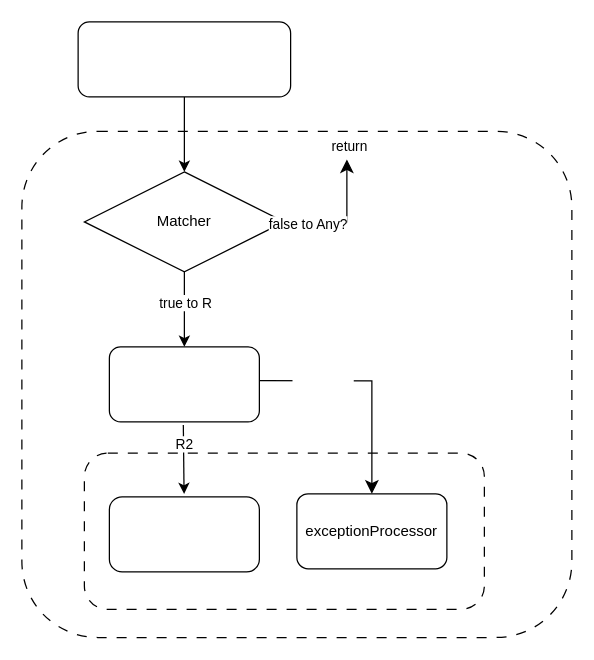
This 594x660 diagram has some shape labels left out. Each missing label, with the centre of its shape:
command: point (183, 384)
Event: Any: point (184, 59)
